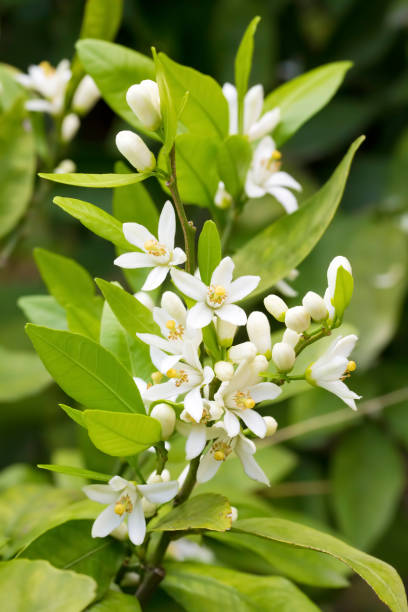flower: (161, 254, 263, 337), (110, 203, 196, 300), (202, 409, 276, 507), (209, 356, 287, 442), (86, 471, 161, 553), (142, 338, 214, 423), (234, 139, 297, 220), (311, 333, 373, 414), (138, 290, 214, 348)
